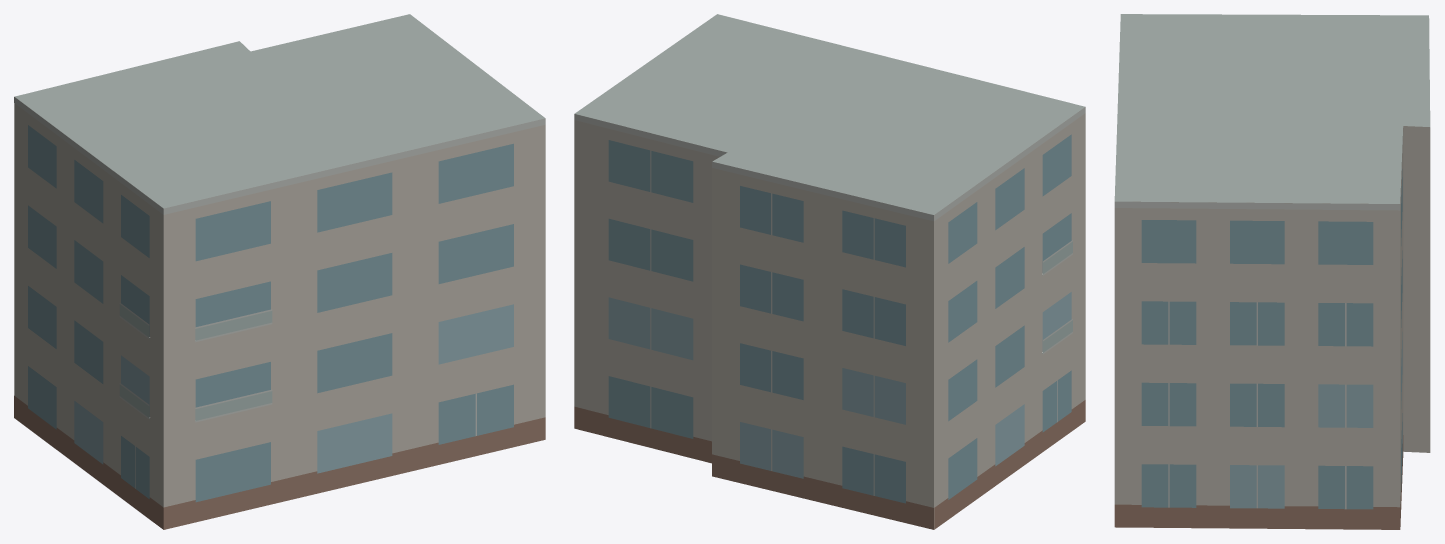
The model's file is survey-upis-33022705.glb.
The picture shows the model from 3 angles, left to right: view 1: azimuth 30°, elevation 25°; view 2: azimuth 150°, elevation 25°; view 3: azimuth 270°, elevation 25°; orthographic projection. The views are drawn at different scales.
Parts seen in each view (by area): view 1: survey-upis-33022705.tmp; view 2: survey-upis-33022705.tmp; view 3: survey-upis-33022705.tmp.
Boxes of the visible parts, x1,y1,x2,y2 form: survey-upis-33022705.tmp: (14, 14, 545, 529); survey-upis-33022705.tmp: (574, 14, 1085, 529); survey-upis-33022705.tmp: (1114, 14, 1430, 529).
Bounding box in the file's own units: 15.48 × 12.35 × 10.86.
